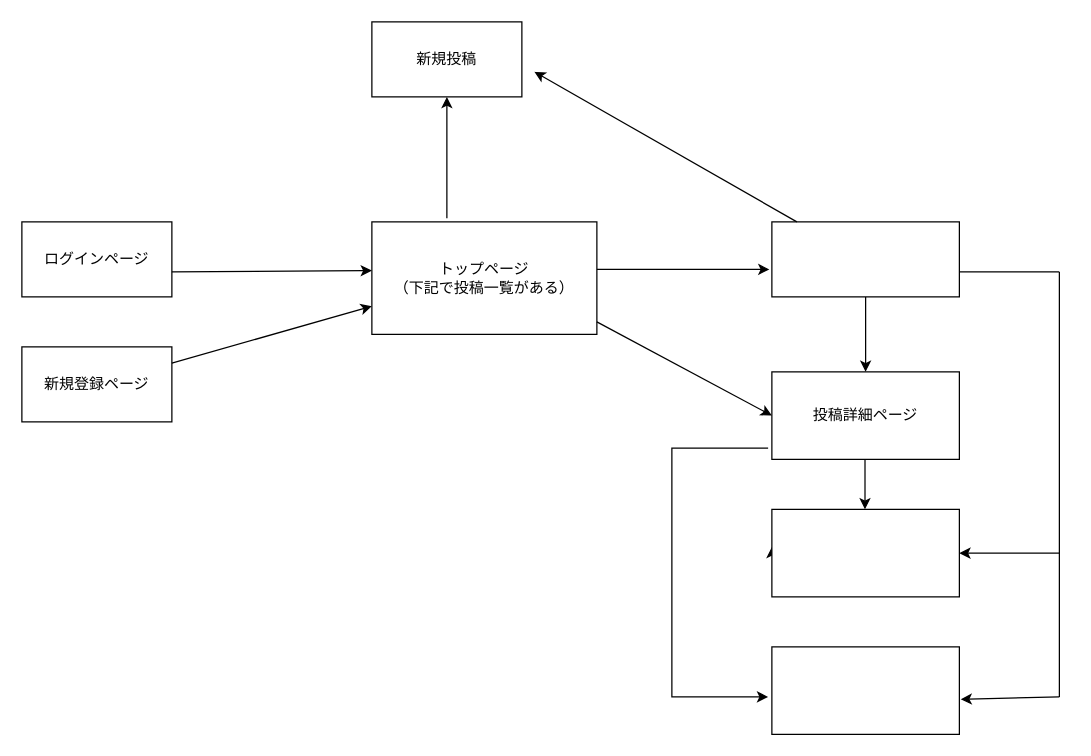
This 1091x756 diagram has some shape labels left out. Here are the shapes that lost their labels. From the top down, the box of each, then its label:
(771, 221, 959, 297): マイページ （自分の投稿も見れる）
(771, 508, 959, 597): 投稿編集ページ
(771, 646, 959, 734): 投稿削除ページ
